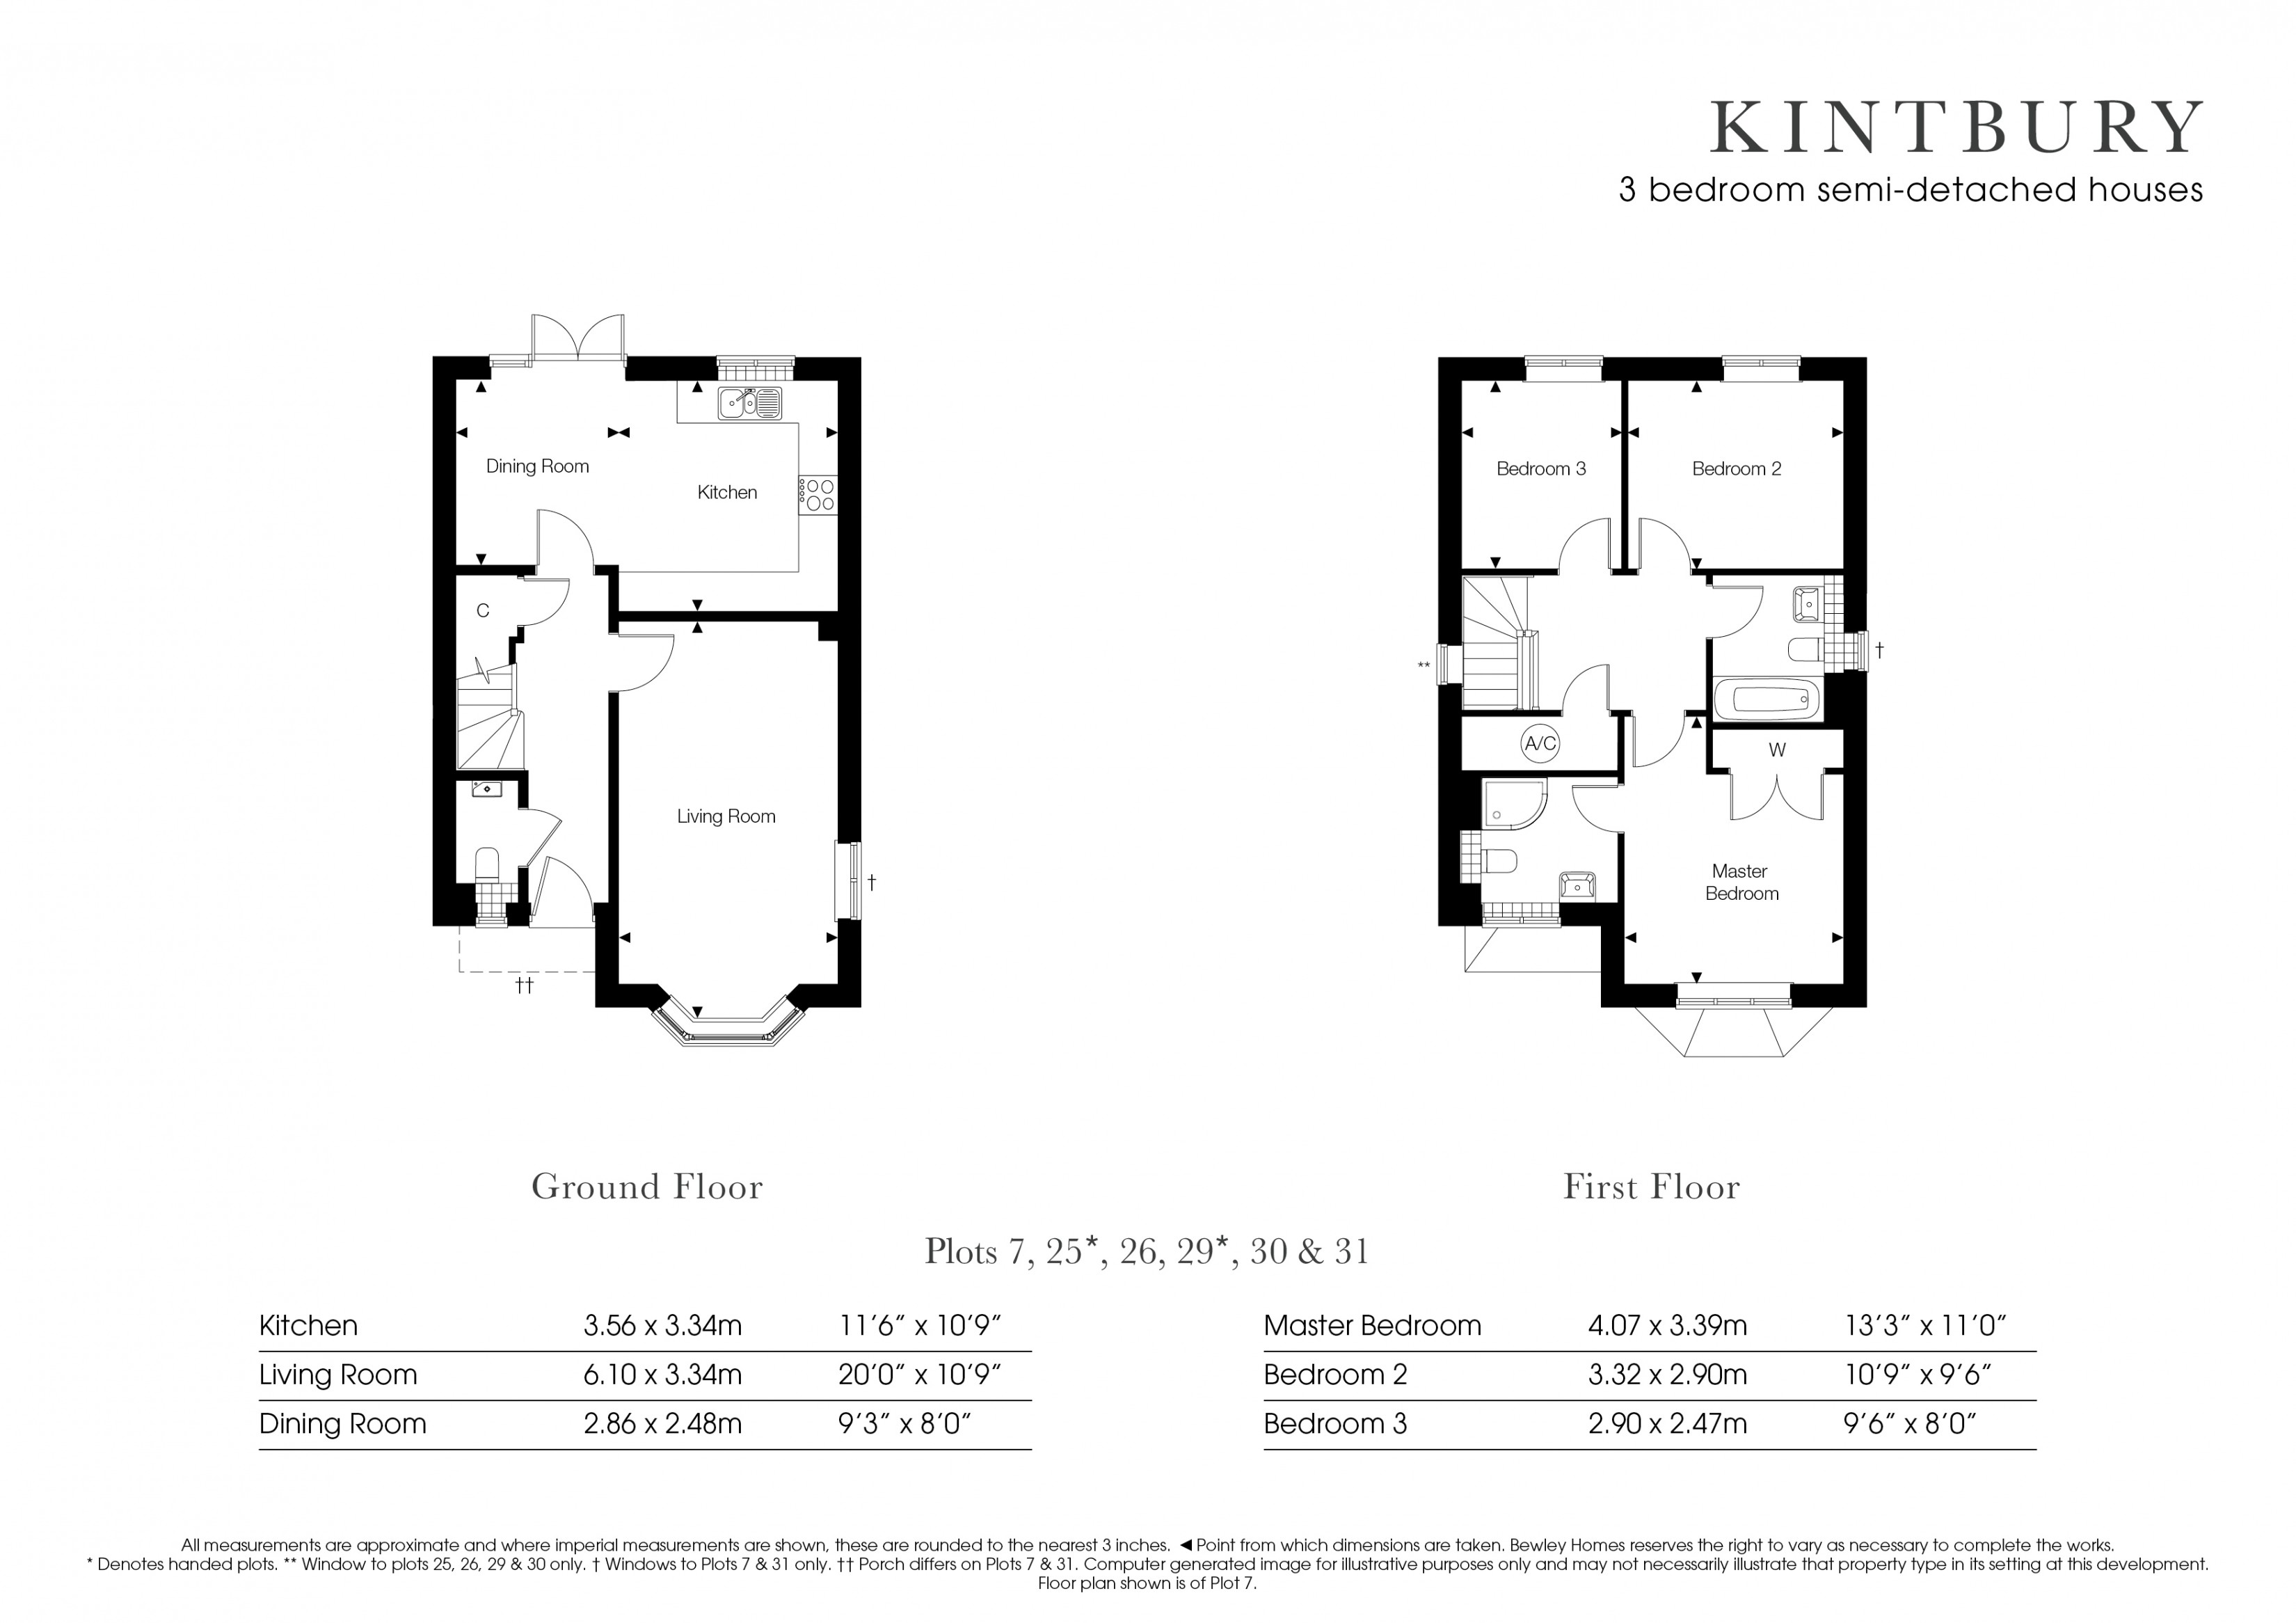door: (527, 309, 627, 362), (532, 506, 597, 574), (611, 631, 678, 692), (516, 574, 572, 629), (518, 806, 562, 868)
